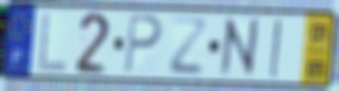2: (74, 11, 113, 78)
I: (268, 17, 283, 81)
L: (36, 10, 69, 74)
N: (218, 15, 260, 81)
P: (123, 13, 165, 76)
Z: (167, 15, 210, 78)
